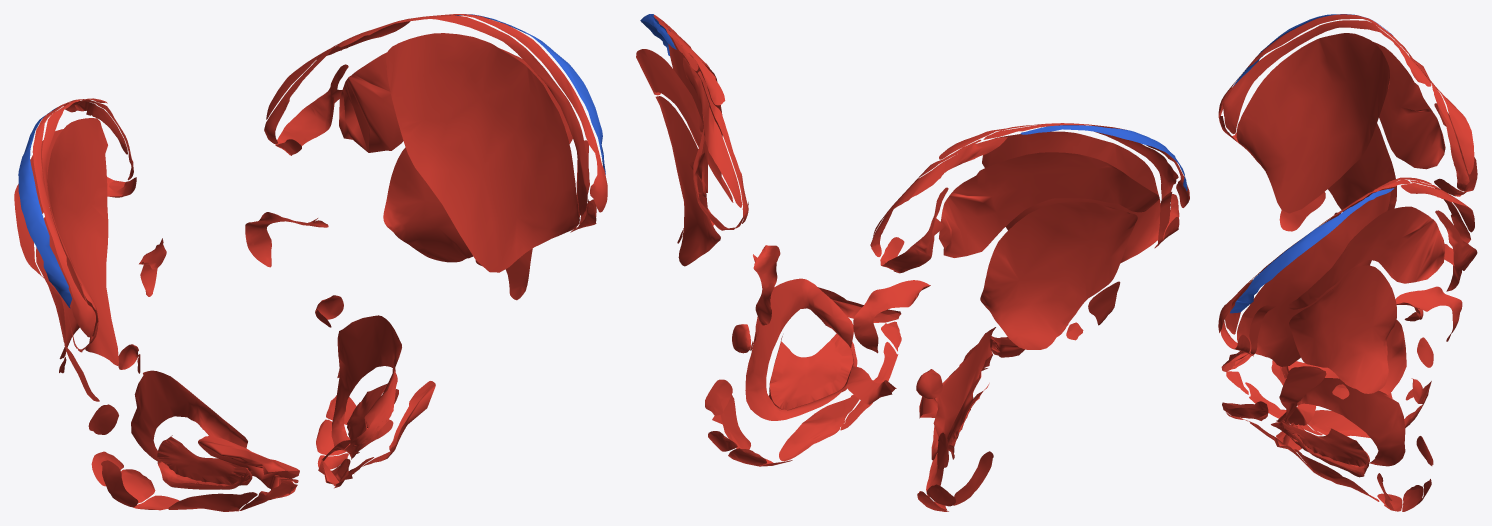
The model's file is muscular.pelvis.glb.
The picture shows the model from 3 angles, left to right: view 1: azimuth 30°, elevation 25°; view 2: azimuth 150°, elevation 25°; view 3: azimuth 270°, elevation 25°; orthographic projection. The views are drawn at different scales.
Visible parts, largest first — view 1: left_iliacus_muscle_origin_hip_bone, right_iliacus_muscle_origin_hip_bone, left_obturator_internus_origin_hip_bone, left_gluteus_minimus_muscle_origin_hip_bone, left_gluteus_medius_muscle_origin_hip_bone, right_obturator_internus_origin_hip_bone, right_obturator_externus_origin_hip_bone, left_transversus_abdominis_muscle_origin_hip_bone, right_external_abdominal_oblique_muscle_insertion_hip_bone, left_internal_abdominal_oblique_muscle_origin_hip_bone, left_gluteus_maximus_muscle_origin_hip_bone, right_internal_abdominal_oblique_muscle_origin_hip_bone (+17 smaller); view 2: right_gluteus_minimus_muscle_origin_hip_bone, right_gluteus_medius_muscle_origin_hip_bone, right_iliacus_muscle_origin_hip_bone, left_obturator_internus_origin_hip_bone, left_obturator_externus_origin_hip_bone, left_gluteus_minimus_muscle_origin_hip_bone, left_gluteus_medius_muscle_origin_hip_bone, right_obturator_internus_origin_hip_bone, right_piriformis_muscle_origin_sacrum, left_adductor_magnus_origin_hip_bone, left_latissimus_dorsi_muscle_origin_hip_bone, right_gluteus_maximus_muscle_origin_hip_bone (+16 smaller); view 3: right_iliacus_muscle_origin_hip_bone, left_gluteus_minimus_muscle_origin_hip_bone, left_iliacus_muscle_origin_hip_bone, left_gluteus_medius_muscle_origin_hip_bone, right_gluteus_medius_muscle_origin_hip_bone, left_obturator_internus_origin_hip_bone, right_transversus_abdominis_muscle_origin_hip_bone, right_gluteus_minimus_muscle_origin_hip_bone, left_obturator_externus_origin_hip_bone, left_external_abdominal_oblique_muscle_insertion_hip_bone, left_rectus_femoris_muscle_origin_hip_bone, right_obturator_internus_origin_hip_bone (+24 smaller).
Part boxes in pixels (left/top/right/bottom): left_iliacus_muscle_origin_hip_bone: left=386, top=33, right=579, bottom=272; right_iliacus_muscle_origin_hip_bone: left=47, top=118, right=118, bottom=365; left_obturator_internus_origin_hip_bone: left=331, top=315, right=401, bottom=453; left_gluteus_minimus_muscle_origin_hip_bone: left=383, top=147, right=473, bottom=262; left_gluteus_medius_muscle_origin_hip_bone: left=339, top=48, right=572, bottom=152; right_obturator_internus_origin_hip_bone: left=131, top=370, right=247, bottom=480; right_obturator_externus_origin_hip_bone: left=157, top=435, right=252, bottom=489; left_transversus_abdominis_muscle_origin_hip_bone: left=337, top=15, right=589, bottom=215; right_external_abdominal_oblique_muscle_insertion_hip_bone: left=18, top=107, right=72, bottom=308; left_internal_abdominal_oblique_muscle_origin_hip_bone: left=399, top=14, right=607, bottom=212; left_gluteus_maximus_muscle_origin_hip_bone: left=275, top=64, right=348, bottom=155; right_internal_abdominal_oblique_muscle_origin_hip_bone: left=32, top=100, right=95, bottom=337; right_gluteus_minimus_muscle_origin_hip_bone: left=980, top=201, right=1137, bottom=349; right_gluteus_medius_muscle_origin_hip_bone: left=939, top=152, right=1159, bottom=257; right_iliacus_muscle_origin_hip_bone: left=982, top=131, right=1160, bottom=263; left_obturator_internus_origin_hip_bone: left=745, top=278, right=853, bottom=420; left_obturator_externus_origin_hip_bone: left=769, top=333, right=857, bottom=410; left_gluteus_minimus_muscle_origin_hip_bone: left=655, top=96, right=720, bottom=266; left_gluteus_medius_muscle_origin_hip_bone: left=636, top=49, right=707, bottom=197; right_obturator_internus_origin_hip_bone: left=931, top=327, right=995, bottom=460; right_piriformis_muscle_origin_sacrum: left=853, top=280, right=930, bottom=353; left_adductor_magnus_origin_hip_bone: left=779, top=394, right=859, bottom=461; left_latissimus_dorsi_muscle_origin_hip_bone: left=683, top=57, right=742, bottom=207; right_gluteus_maximus_muscle_origin_hip_bone: left=880, top=187, right=948, bottom=273; right_iliacus_muscle_origin_hip_bone: left=1236, top=33, right=1389, bottom=213; left_gluteus_minimus_muscle_origin_hip_bone: left=1289, top=265, right=1396, bottom=393; left_iliacus_muscle_origin_hip_bone: left=1237, top=188, right=1390, bottom=366; left_gluteus_medius_muscle_origin_hip_bone: left=1288, top=206, right=1444, bottom=309; right_gluteus_medius_muscle_origin_hip_bone: left=1373, top=42, right=1445, bottom=169; left_obturator_internus_origin_hip_bone: left=1279, top=378, right=1405, bottom=466; right_transversus_abdominis_muscle_origin_hip_bone: left=1222, top=20, right=1431, bottom=133; right_gluteus_minimus_muscle_origin_hip_bone: left=1328, top=123, right=1396, bottom=211; left_obturator_externus_origin_hip_bone: left=1271, top=420, right=1369, bottom=477; left_external_abdominal_oblique_muscle_insertion_hip_bone: left=1230, top=188, right=1394, bottom=313; left_rectus_femoris_muscle_origin_hip_bone: left=1279, top=366, right=1349, bottom=403; right_obturator_internus_origin_hip_bone: left=1280, top=320, right=1406, bottom=394.
Bounding box in the file's own units: 0.2831 × 0.2073 × 0.134.
